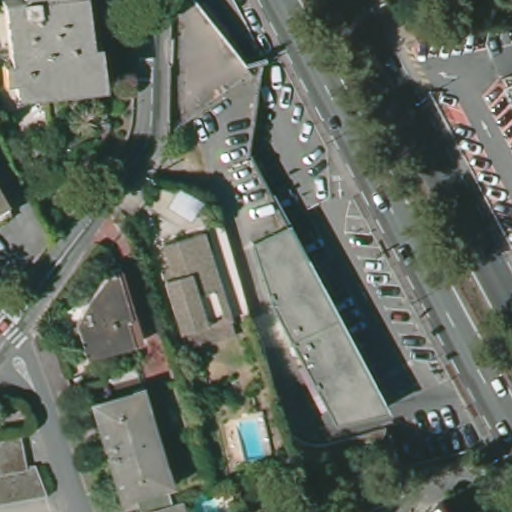pool: (235, 412, 272, 465)
